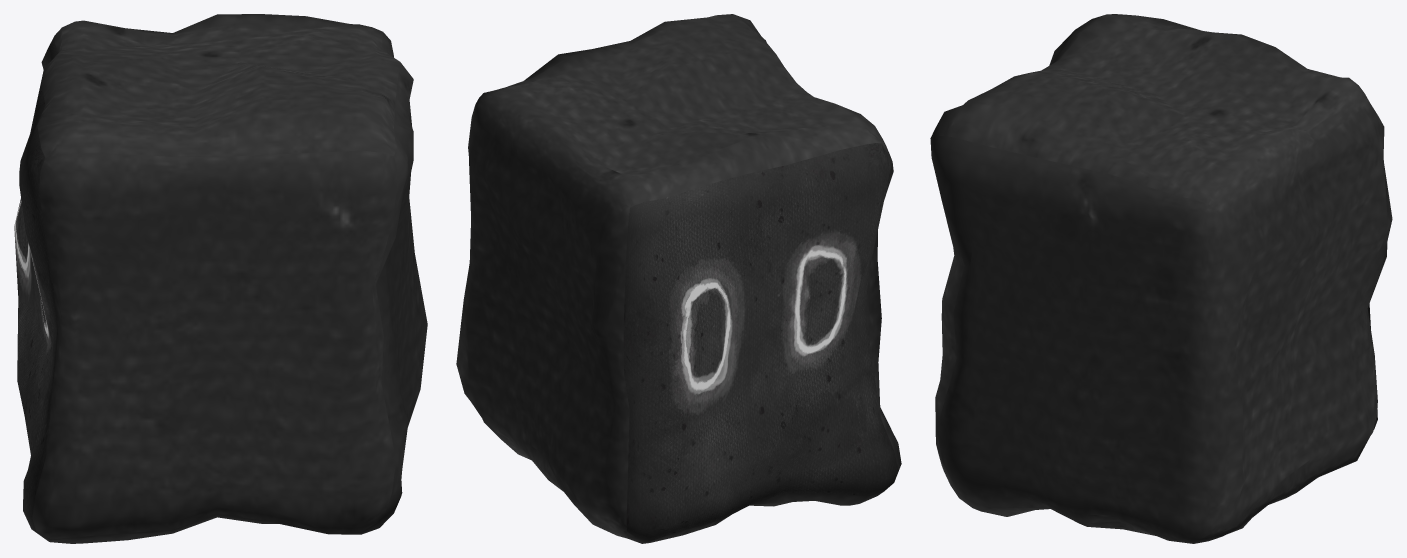
The model's file is 0415_koong_wake.fbx.
3 renders of one model, left to right at view 1: azimuth 30°, elevation 25°; view 2: azimuth 150°, elevation 25°; view 3: azimuth 270°, elevation 25°, orthographic. The views are drawn at different scales.
Parts seen in each view (by area): view 1: wake.001; view 2: wake.001; view 3: wake.001.
Boxes of the visible parts, x1,y1,x2,y2 form: wake.001: (14,14,427,543); wake.001: (456,14,901,543); wake.001: (930,14,1392,543).
Bounding box in the file's own units: 830 × 807 × 812.
